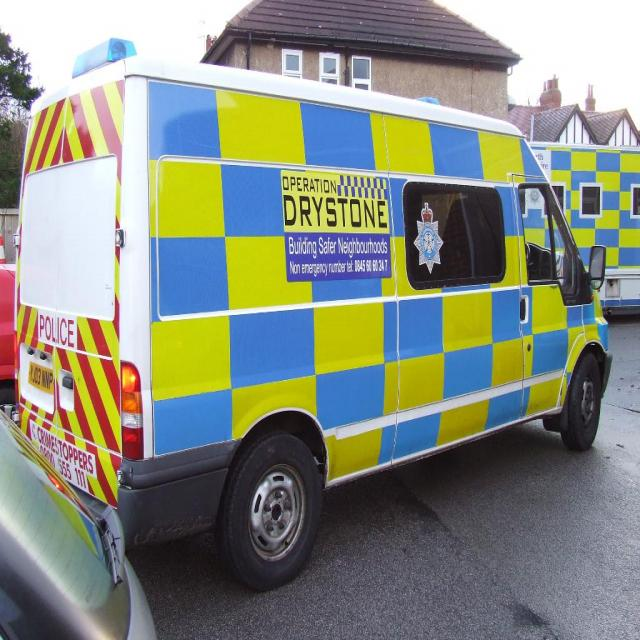Ambulance: (9, 37, 614, 594)
